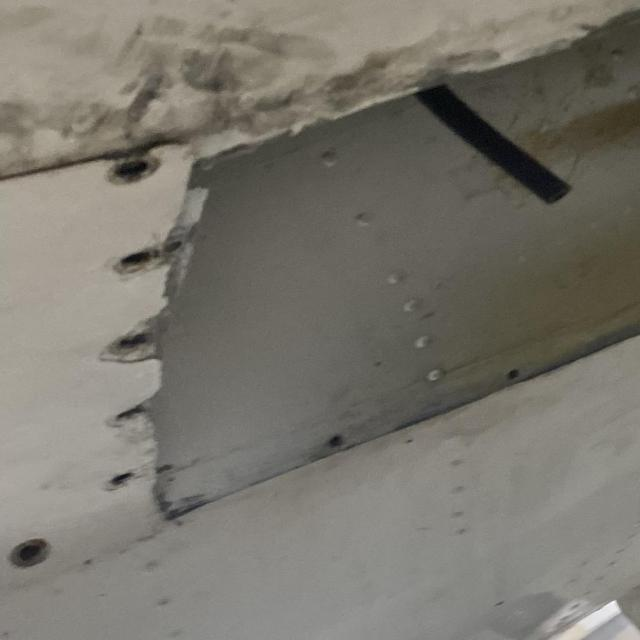Missing-head: (103, 151, 156, 185), (109, 246, 160, 275), (7, 539, 50, 570)
